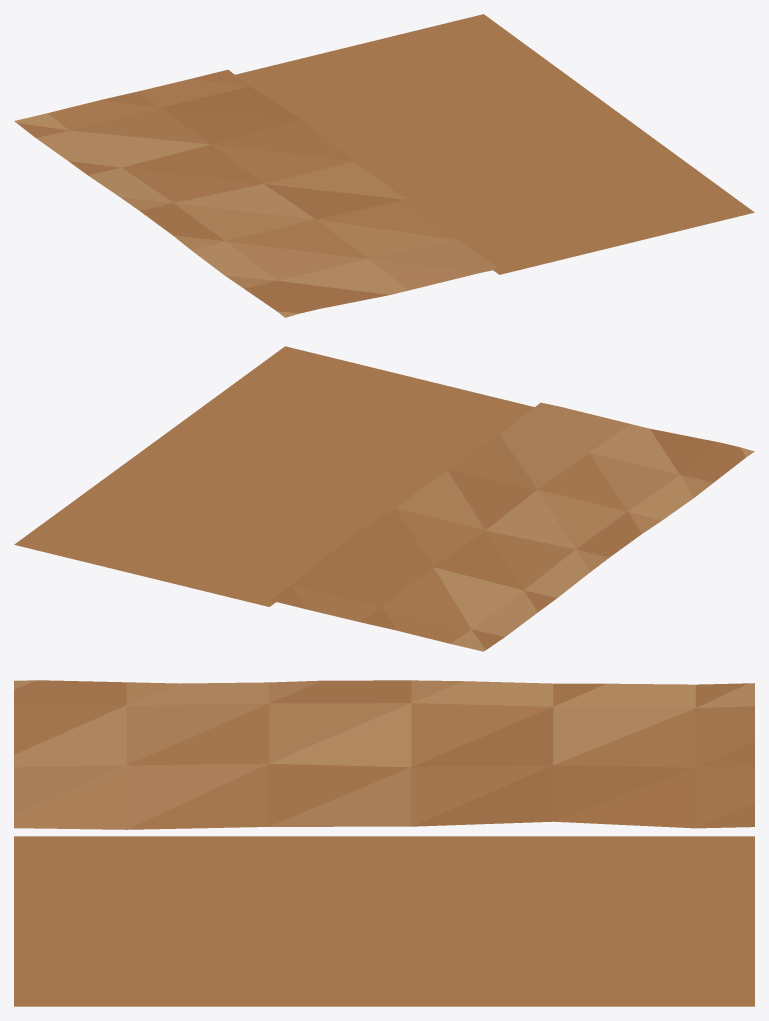
3 views of the same model, one above another, from view 1: azimuth 30°, elevation 25°; view 2: azimuth 150°, elevation 25°; view 3: azimuth 270°, elevation 25° (orthographic). The views are drawn at different scales.
Parts seen in each view (by area): view 1: baked; view 2: baked; view 3: baked.
Boxes of the visible parts, x1=… form: baked: x1=14, y1=14, x2=754, y2=317; baked: x1=14, y1=346, x2=754, y2=651; baked: x1=14, y1=680, x2=754, y2=1006.
Bounding box in the file's own units: 62.5 × 1.36 × 62.5.
